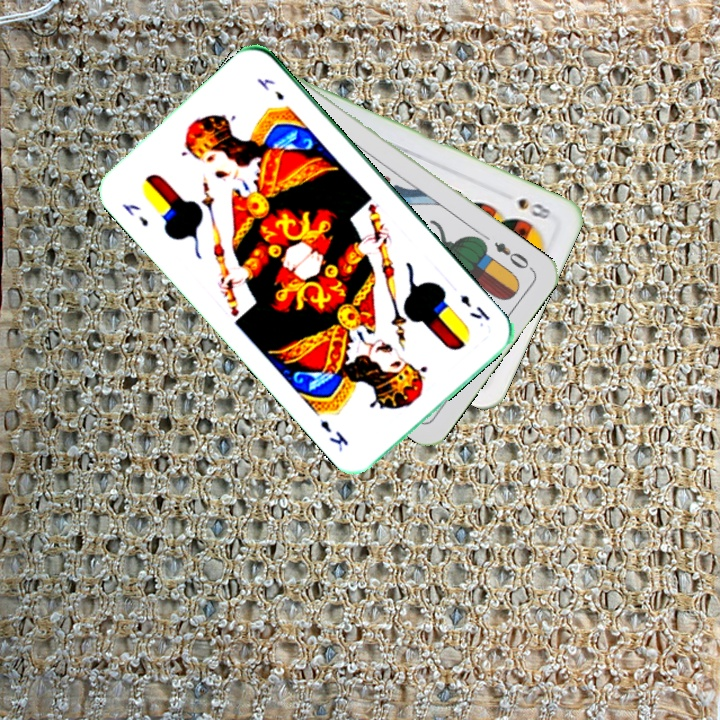EK: (456, 291, 493, 324), (118, 199, 151, 230)
EO: (490, 238, 536, 273)
S8: (513, 194, 554, 222)
